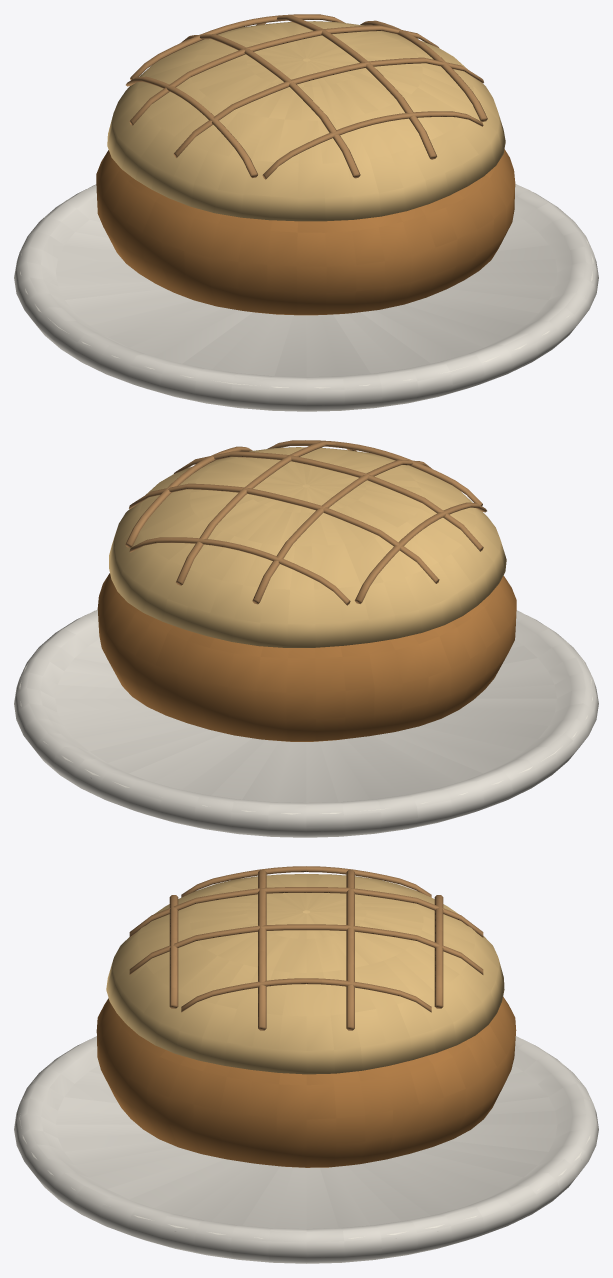
Rendered from melon-bread.glb.
3 renders of one model, top to bottom at view 1: azimuth 30°, elevation 25°; view 2: azimuth 150°, elevation 25°; view 3: azimuth 270°, elevation 25°, orthographic.
Parts seen in each view (by area): view 1: Shared_milky_white_round_glass_plate, Melon_bread_pale_cookie_crust_dome, Melon_bread_round_brioche_base, Melon_bread_cookie_grid_groove_1_1, Melon_bread_cookie_grid_groove_1_2, Melon_bread_cookie_grid_groove_0_1, Melon_bread_cookie_grid_groove_0_2, Melon_bread_cookie_grid_groove_1_0, Melon_bread_cookie_grid_groove_1_3, Melon_bread_cookie_grid_groove_0_0, Melon_bread_cookie_grid_groove_0_3; view 2: Shared_milky_white_round_glass_plate, Melon_bread_pale_cookie_crust_dome, Melon_bread_round_brioche_base, Melon_bread_cookie_grid_groove_1_2, Melon_bread_cookie_grid_groove_1_1, Melon_bread_cookie_grid_groove_0_1, Melon_bread_cookie_grid_groove_0_2, Melon_bread_cookie_grid_groove_1_3, Melon_bread_cookie_grid_groove_1_0, Melon_bread_cookie_grid_groove_0_0, Melon_bread_cookie_grid_groove_0_3; view 3: Shared_milky_white_round_glass_plate, Melon_bread_pale_cookie_crust_dome, Melon_bread_round_brioche_base, Melon_bread_cookie_grid_groove_0_2, Melon_bread_cookie_grid_groove_0_1, Melon_bread_cookie_grid_groove_0_3, Melon_bread_cookie_grid_groove_0_0, Melon_bread_cookie_grid_groove_1_1, Melon_bread_cookie_grid_groove_1_2, Melon_bread_cookie_grid_groove_1_0, Melon_bread_cookie_grid_groove_1_3.
Boxes of the visible parts, x1,y1,x2,y2 form: Shared_milky_white_round_glass_plate: (14, 184, 598, 411); Melon_bread_pale_cookie_crust_dome: (107, 21, 505, 221); Melon_bread_round_brioche_base: (96, 149, 515, 315); Melon_bread_cookie_grid_groove_1_1: (173, 57, 483, 157); Melon_bread_cookie_grid_groove_1_2: (129, 25, 438, 125); Melon_bread_cookie_grid_groove_0_1: (181, 34, 360, 178); Melon_bread_cookie_grid_groove_0_2: (256, 15, 436, 159); Melon_bread_cookie_grid_groove_1_0: (262, 111, 483, 179); Melon_bread_cookie_grid_groove_1_3: (130, 14, 344, 80); Melon_bread_cookie_grid_groove_0_0: (126, 76, 257, 177); Melon_bread_cookie_grid_groove_0_3: (360, 20, 487, 121); Shared_milky_white_round_glass_plate: (14, 609, 598, 837); Melon_bread_pale_cookie_crust_dome: (109, 447, 506, 647); Melon_bread_round_brioche_base: (97, 573, 516, 741); Melon_bread_cookie_grid_groove_1_2: (129, 483, 439, 583); Melon_bread_cookie_grid_groove_1_1: (174, 451, 483, 551); Melon_bread_cookie_grid_groove_0_1: (252, 460, 431, 604); Melon_bread_cookie_grid_groove_0_2: (176, 441, 356, 585); Melon_bread_cookie_grid_groove_1_3: (129, 537, 350, 605); Melon_bread_cookie_grid_groove_1_0: (267, 440, 482, 505); Melon_bread_cookie_grid_groove_0_0: (354, 502, 486, 603); Melon_bread_cookie_grid_groove_0_3: (125, 446, 252, 547); Shared_milky_white_round_glass_plate: (14, 1036, 598, 1263); Melon_bread_pale_cookie_crust_dome: (106, 874, 504, 1074); Melon_bread_round_brioche_base: (96, 996, 516, 1167); Melon_bread_cookie_grid_groove_0_2: (129, 924, 483, 974); Melon_bread_cookie_grid_groove_0_1: (129, 887, 483, 937); Melon_bread_cookie_grid_groove_0_3: (181, 978, 431, 1012); Melon_bread_cookie_grid_groove_0_0: (181, 866, 431, 897); Melon_bread_cookie_grid_groove_1_1: (258, 870, 266, 1030); Melon_bread_cookie_grid_groove_1_2: (346, 870, 354, 1030); Melon_bread_cookie_grid_groove_1_0: (169, 895, 178, 1008); Melon_bread_cookie_grid_groove_1_3: (434, 895, 443, 1008).
Size of the model in its own units: 0.94 by 0.4474 by 0.94.
